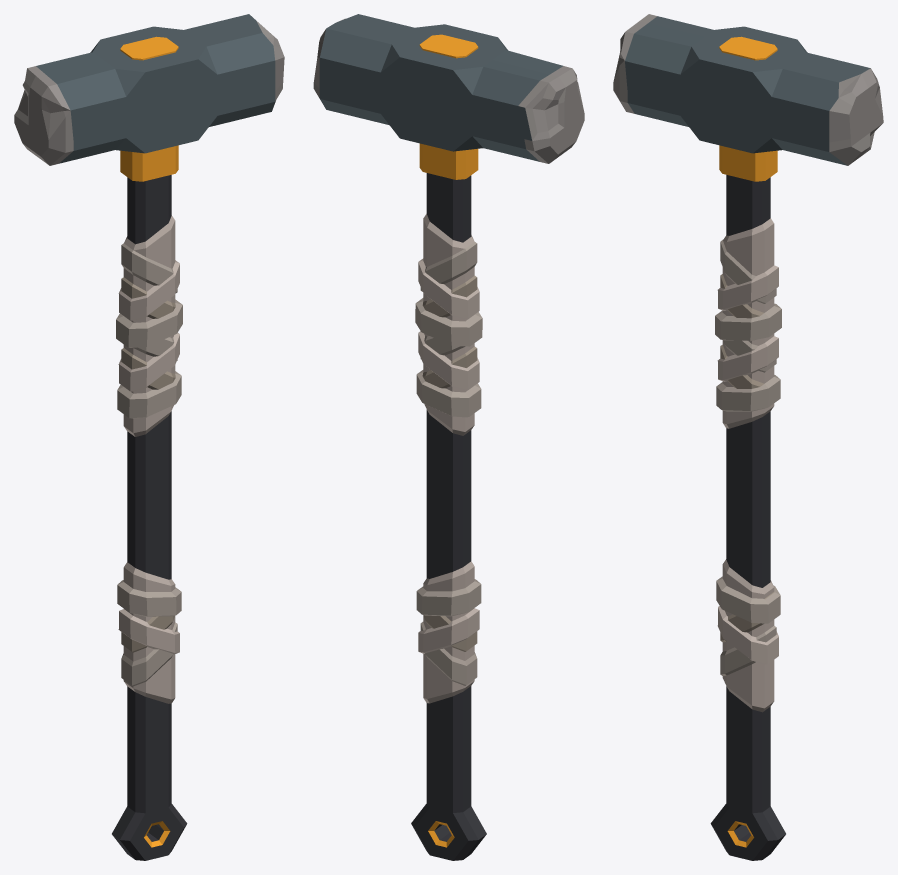
File: SM_Sledgehammer.fbx
3 views of the same model, side by side, from view 1: azimuth 30°, elevation 25°; view 2: azimuth 150°, elevation 25°; view 3: azimuth 330°, elevation 25° (orthographic).
Visible parts, largest first — view 1: SM_Sledgehammer; view 2: SM_Sledgehammer; view 3: SM_Sledgehammer.
Boxes of the visible parts, x1,y1,x2,y2 form: SM_Sledgehammer: (14,14,284,860); SM_Sledgehammer: (313,14,584,860); SM_Sledgehammer: (613,14,883,860).
Size of the model in its own units: 32.94 by 106 by 10.68.
